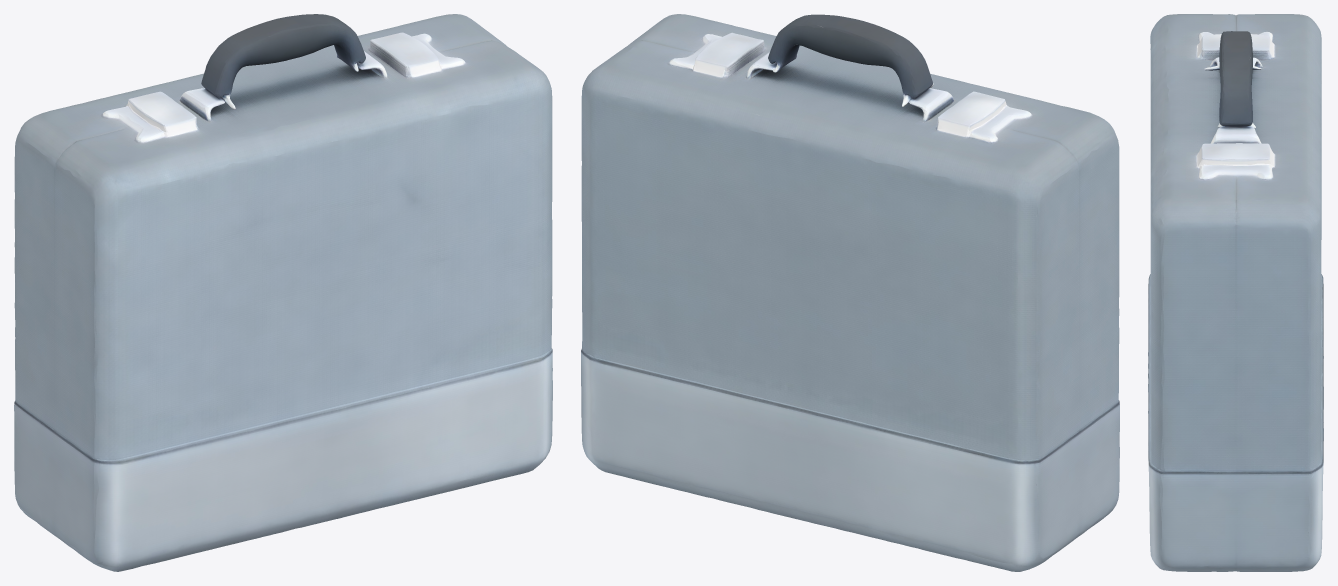
File: attache-case.glb
3 renders of one model, left to right at view 1: azimuth 30°, elevation 25°; view 2: azimuth 150°, elevation 25°; view 3: azimuth 270°, elevation 25°, orthographic. The views are drawn at different scales.
Parts seen in each view (by area): view 1: Mesh; view 2: Mesh; view 3: Mesh.
Boxes of the visible parts, box(x1,y1,x2,y2) form: Mesh: box(14, 14, 552, 571); Mesh: box(581, 14, 1119, 571); Mesh: box(1148, 14, 1323, 571).
Size of the model in its own units: 1.89 by 1.85 by 0.6825.
1 material, 1 textured.
